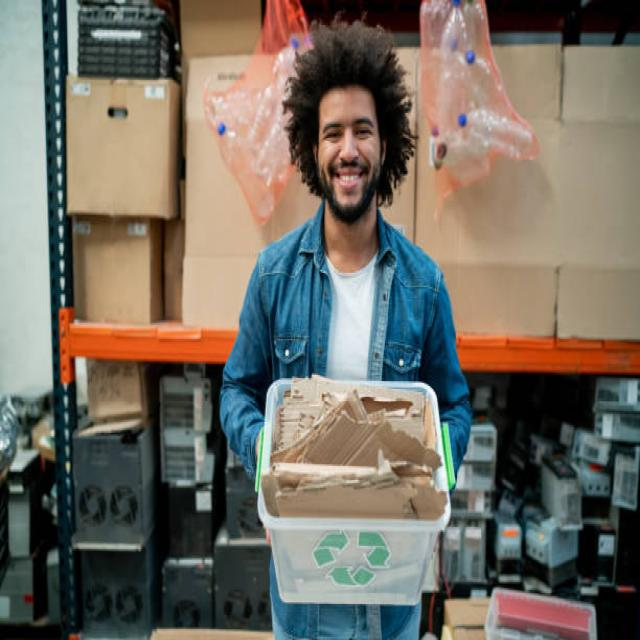cardboard: (62, 76, 186, 330), (273, 389, 437, 518)
trash: (413, 2, 554, 207), (208, 28, 287, 221)
